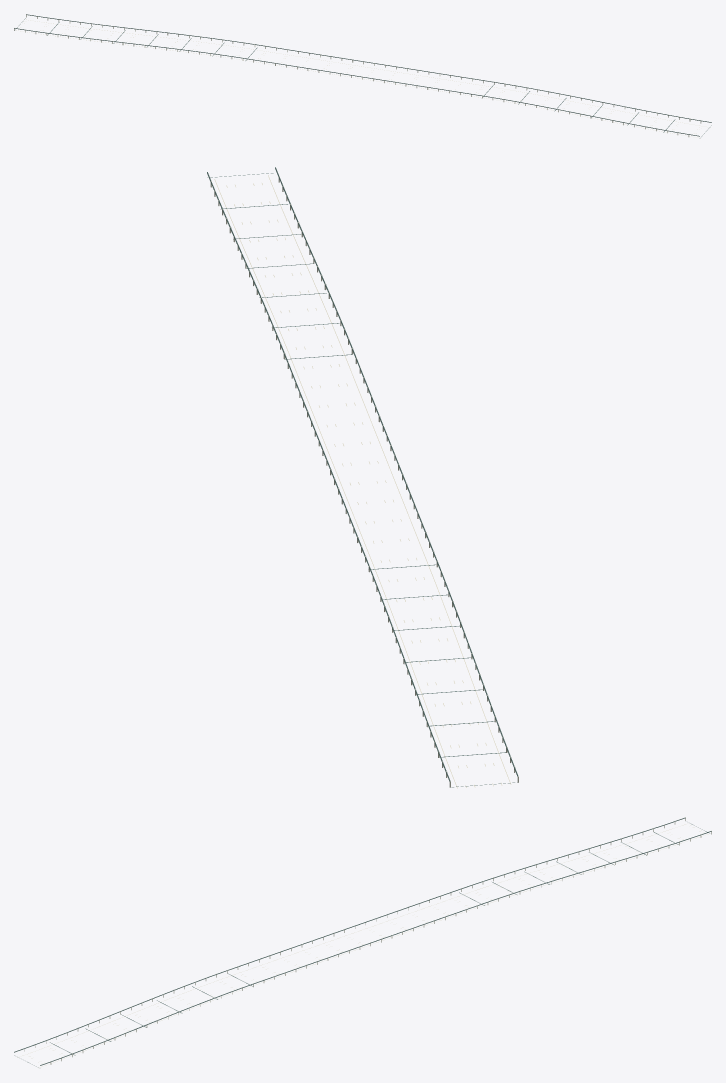
The model's file is transport-1--2.glb.
3 renders of one model, top to bottom at view 1: azimuth 30°, elevation 25°; view 2: azimuth 150°, elevation 25°; view 3: azimuth 270°, elevation 25°, orthographic. The views are drawn at different scales.
Parts seen in each view (by area): view 1: RiverBridge_Details_wuxiang-bridge; view 2: RiverBridge_Details_wuxiang-bridge; view 3: RiverBridge_Details_wuxiang-bridge.
Boxes of the visible parts, x1,y1,x2,y2 form: RiverBridge_Details_wuxiang-bridge: (14,14,711,138); RiverBridge_Details_wuxiang-bridge: (207,167,518,788); RiverBridge_Details_wuxiang-bridge: (14,817,711,1067).
Bounding box in the file's own units: 5.86 × 0.131 × 6.97.
